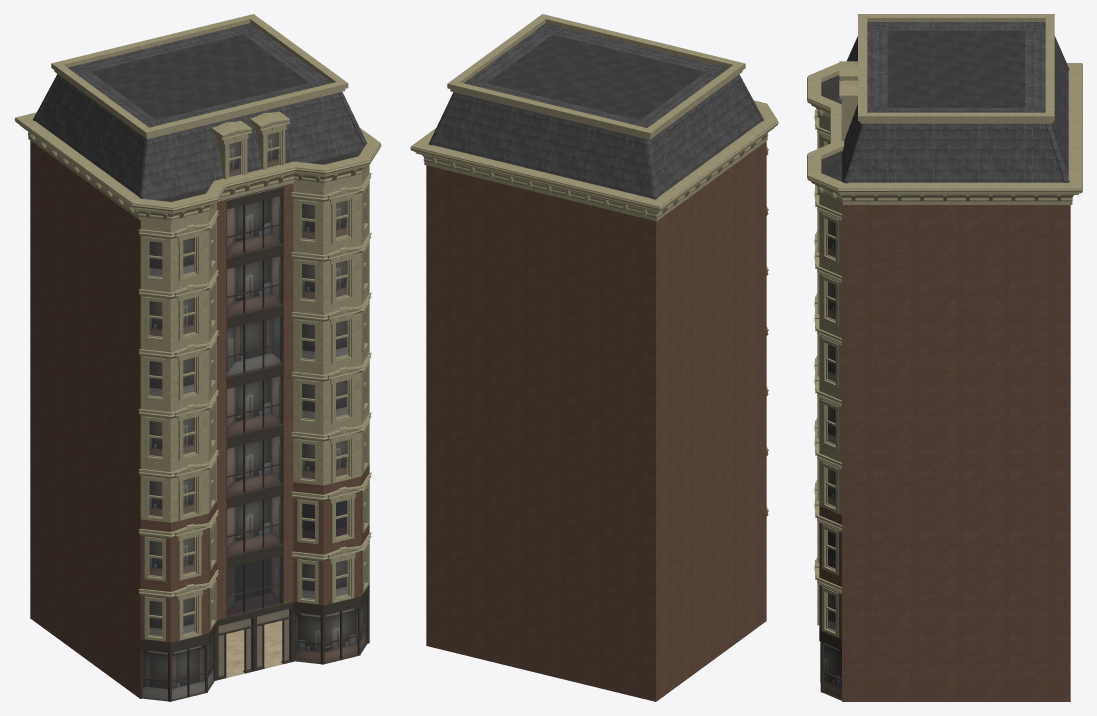
The model's file is Building_Medium_1.glb.
The picture shows the model from 3 angles, left to right: view 1: azimuth 30°, elevation 25°; view 2: azimuth 150°, elevation 25°; view 3: azimuth 270°, elevation 25°; orthographic projection. The views are drawn at different scales.
Parts seen in each view (by area): view 1: Building_Medium_1; view 2: Building_Medium_1; view 3: Building_Medium_1.
Boxes of the visible parts, <box> form: Building_Medium_1: <box>14,14,381,701</box>; Building_Medium_1: <box>410,14,778,701</box>; Building_Medium_1: <box>807,14,1082,701</box>.
Bounding box in the file's own units: 13.06 × 27.92 × 12.05.
11 materials, 10 textured.
